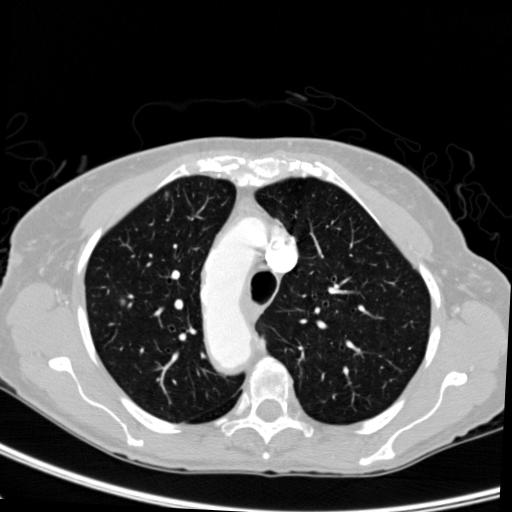nodule: (119, 295, 132, 308)
